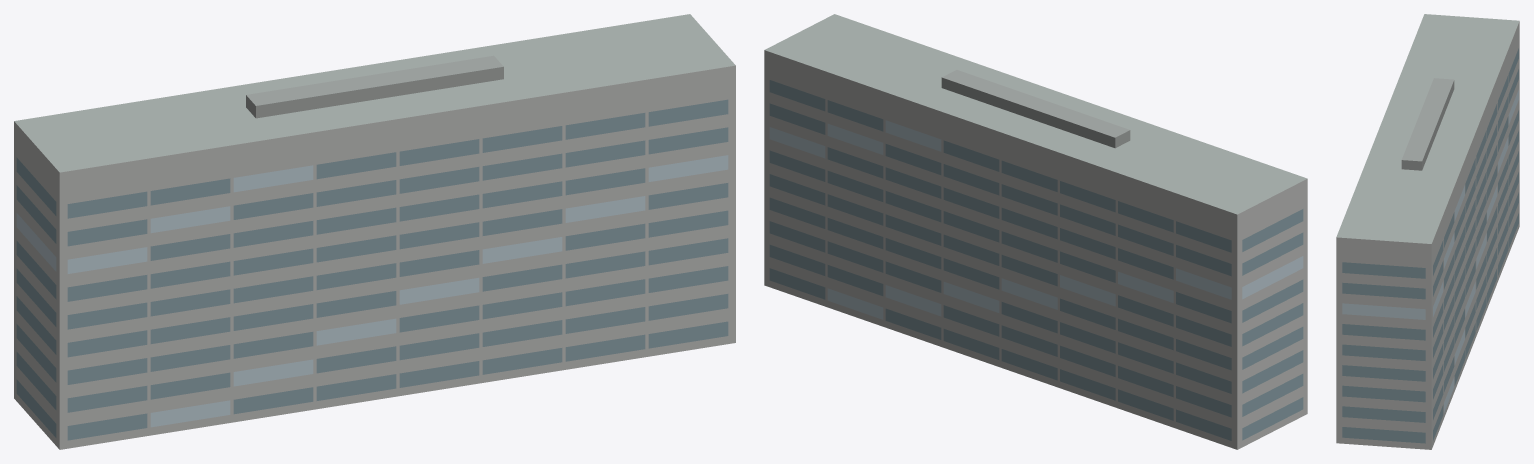
File: fallback-olympic-athletes-village-324.glb
The picture shows the model from 3 angles, left to right: view 1: azimuth 30°, elevation 25°; view 2: azimuth 150°, elevation 25°; view 3: azimuth 270°, elevation 25°; orthographic projection. The views are drawn at different scales.
Parts seen in each view (by area): view 1: fallback-olympic-athletes-village-324; view 2: fallback-olympic-athletes-village-324; view 3: fallback-olympic-athletes-village-324.
Boxes of the visible parts, <box> form: fallback-olympic-athletes-village-324: <box>14,14,735,449</box>; fallback-olympic-athletes-village-324: <box>764,14,1307,449</box>; fallback-olympic-athletes-village-324: <box>1336,14,1519,449</box>.
Bounding box in the file's own units: 73.13 × 31.87 × 24.63.
